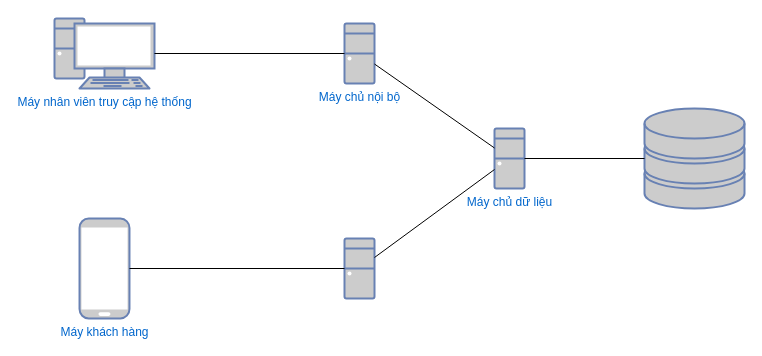
Some shapes in this 762 by 356 pixel diagram are drawn without their labels. The box of each missing label's shape, as (x1, y1, x2, y2) in pixels:
Cơ sở dữ liệu: (643, 107, 745, 209)
Máy chủ ứng dụng: (343, 237, 375, 299)
